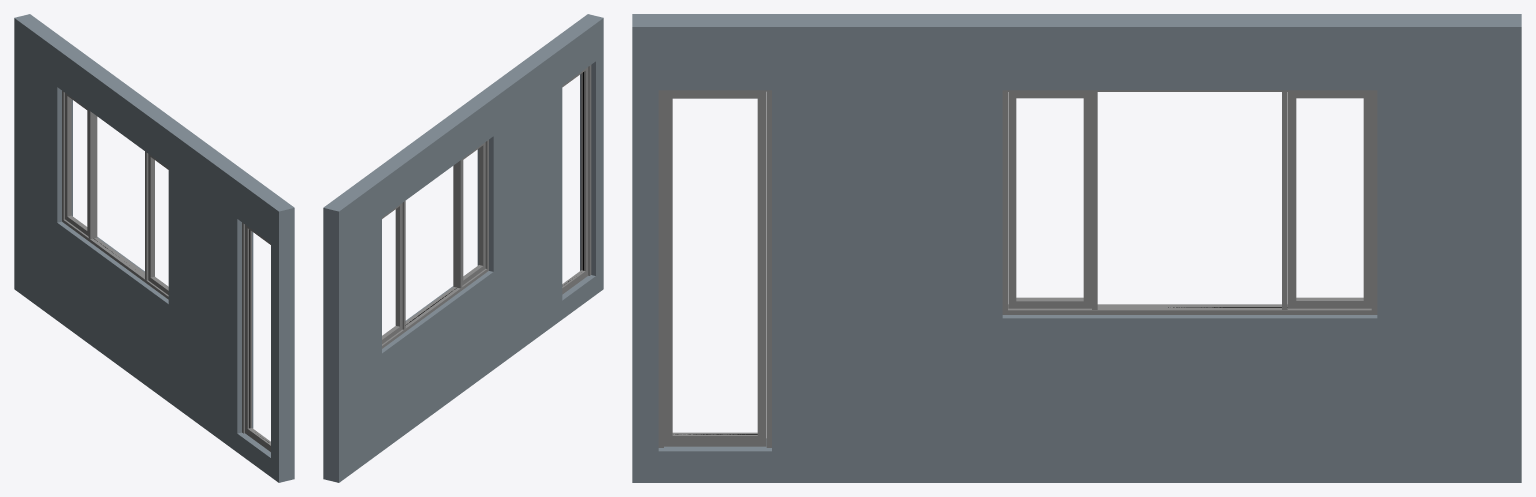
The model's file is porte fenetre.FBX.
3 views of the same model, side by side, from view 1: azimuth 30°, elevation 25°; view 2: azimuth 150°, elevation 25°; view 3: azimuth 270°, elevation 25° (orthographic). The views are drawn at different scales.
Visible parts, largest first — view 1: Rectangle24; view 2: Rectangle24; view 3: Rectangle24.
Part boxes in pixels (x1,y1,x2,y2): Rectangle24: (14,14,294,482); Rectangle24: (323,14,603,482); Rectangle24: (632,14,1521,482).
Size of the model in its own units: 1.26 by 20.64 by 36.49.
